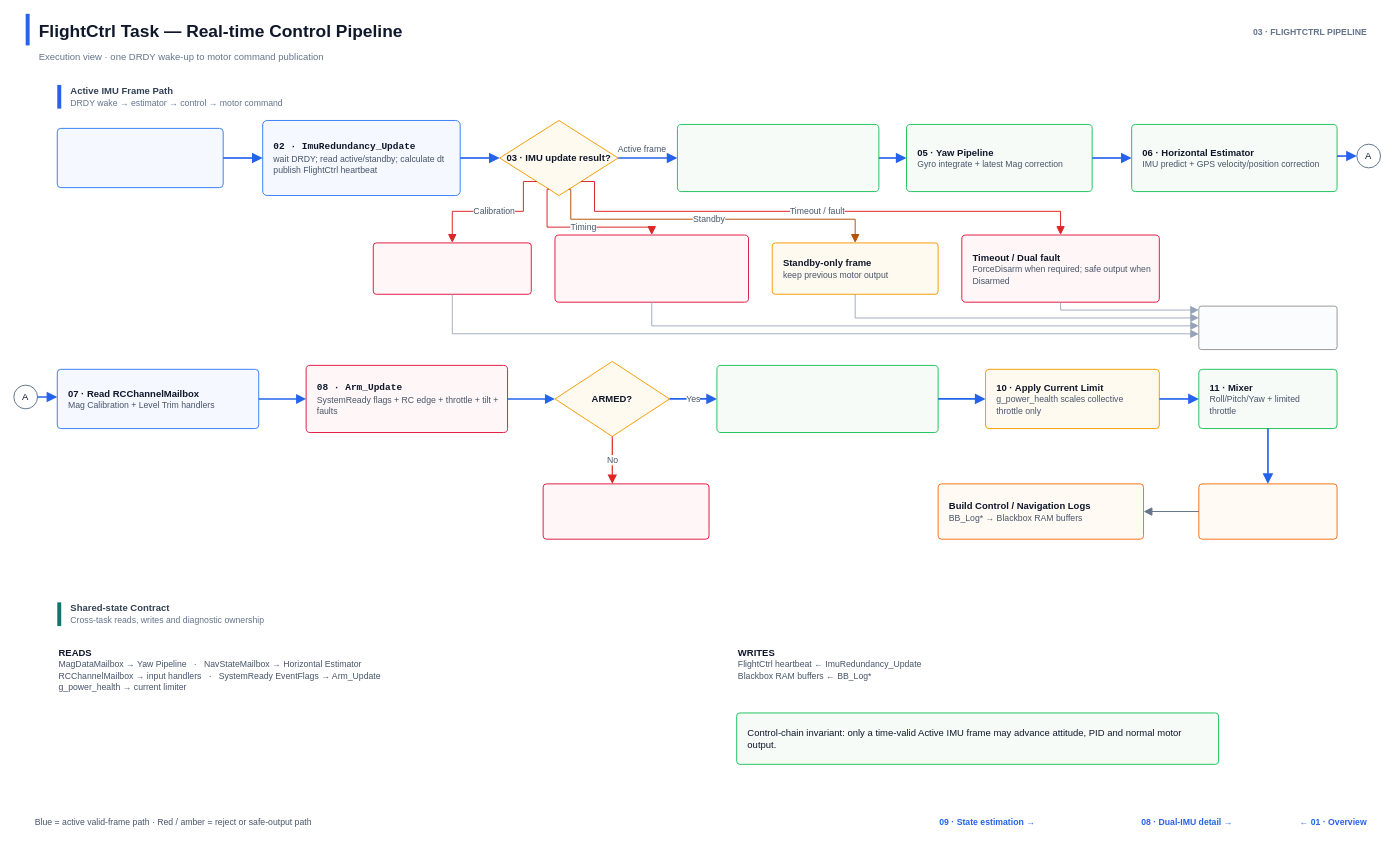
Some shapes in this 1395 by 845 pixel diagram are drawn without their labels. Each missing label, with the centre of its shape:
01 · Initialize Dual ICM · Redundancy · Controllers · ARM: (139,158)
04 · Attitude Pipeline Accel angles → Level Trim → Roll/Pitch fusion: (778,158)
09 · FlightControl_Update Mode selection + Position/Velocity + Angle/Rate PID: (827,399)
12 · BSP_DSHOT_Send 4 motor commands: (1267,511)
Calibration result Reset control + DShot 0: (451,268)
FlightControl_Reset DShot 0; skip control output: (625,511)
Non-active result → wait next DRDY: (1267,327)
Timing anomaly Reset D terms; 3× → ForceDisarm + DShot 0: (651,268)
